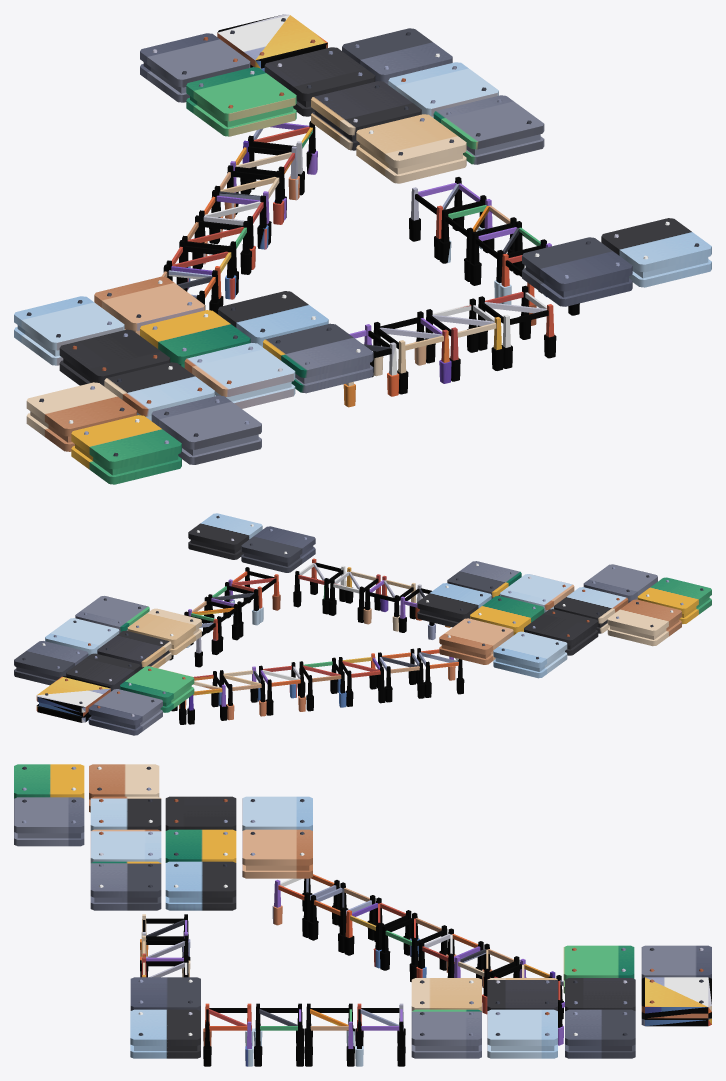
File: SM_PetrolPlatform_A.fbx
3 views of the same model, one above another, from view 1: azimuth 30°, elevation 25°; view 2: azimuth 150°, elevation 25°; view 3: azimuth 270°, elevation 25° (orthographic). The views are drawn at different scales.
Visible parts, largest first — view 1: SM_PetrolPlatform_A; view 2: SM_PetrolPlatform_A; view 3: SM_PetrolPlatform_A.
Part boxes in pixels (box(x1,y1,x2,y2)): SM_PetrolPlatform_A: box(14, 14, 711, 484); SM_PetrolPlatform_A: box(14, 513, 711, 735); SM_PetrolPlatform_A: box(14, 764, 711, 1066).
Size of the model in its own units: 693 by 76.88 by 743.
